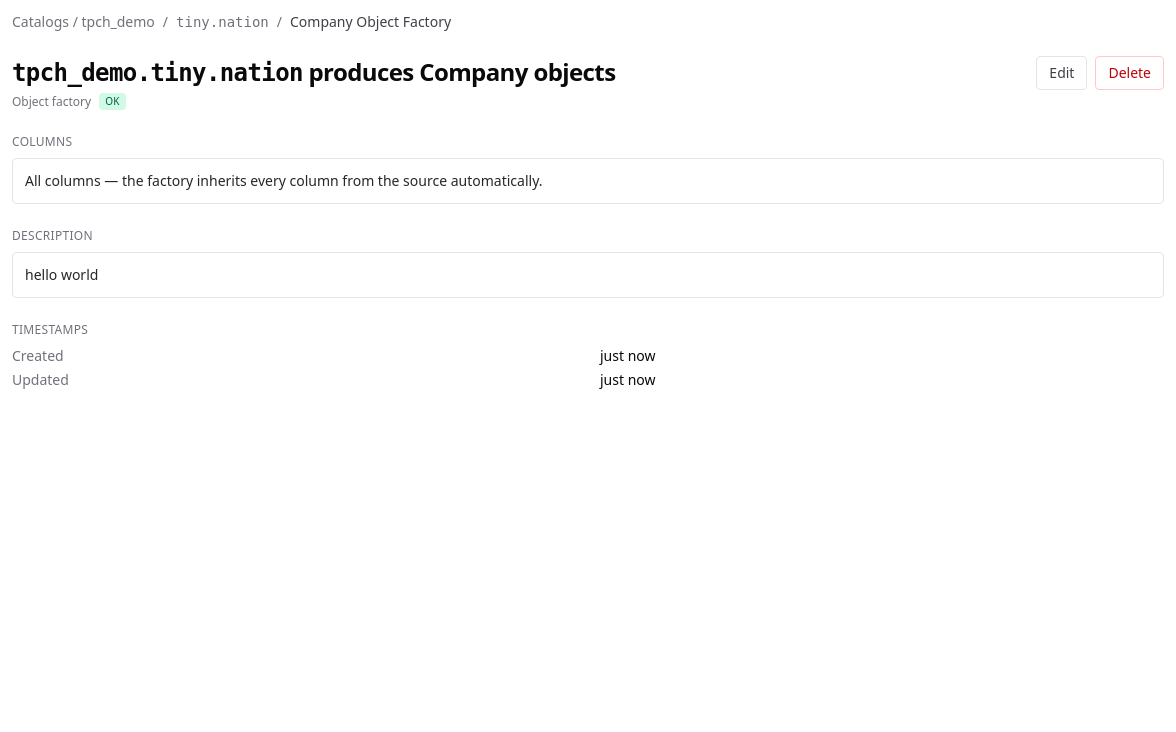
ObjectFactoryDetail › edits the description and PATCHes
Click the button with test id "edit-button": (1062,73) [1036,56,1088,90]
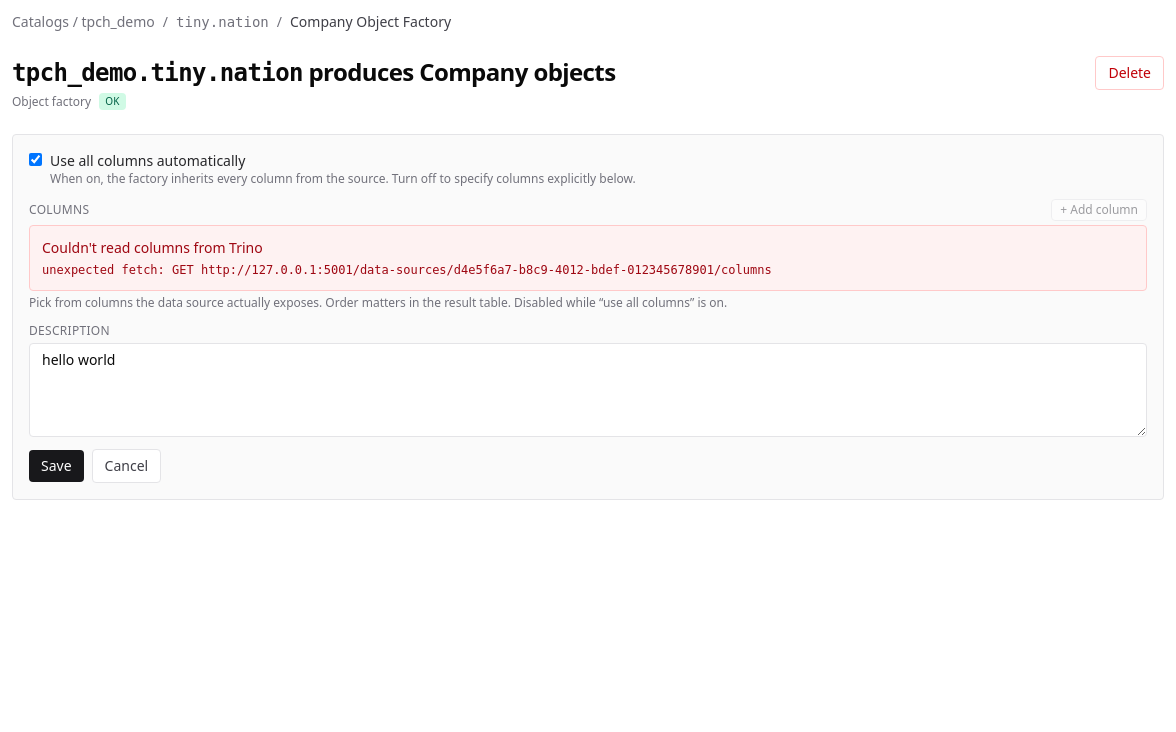
Replace the text in the text box with test id "edit-description-input" with "edited": (588,390) [29,343,1147,437]
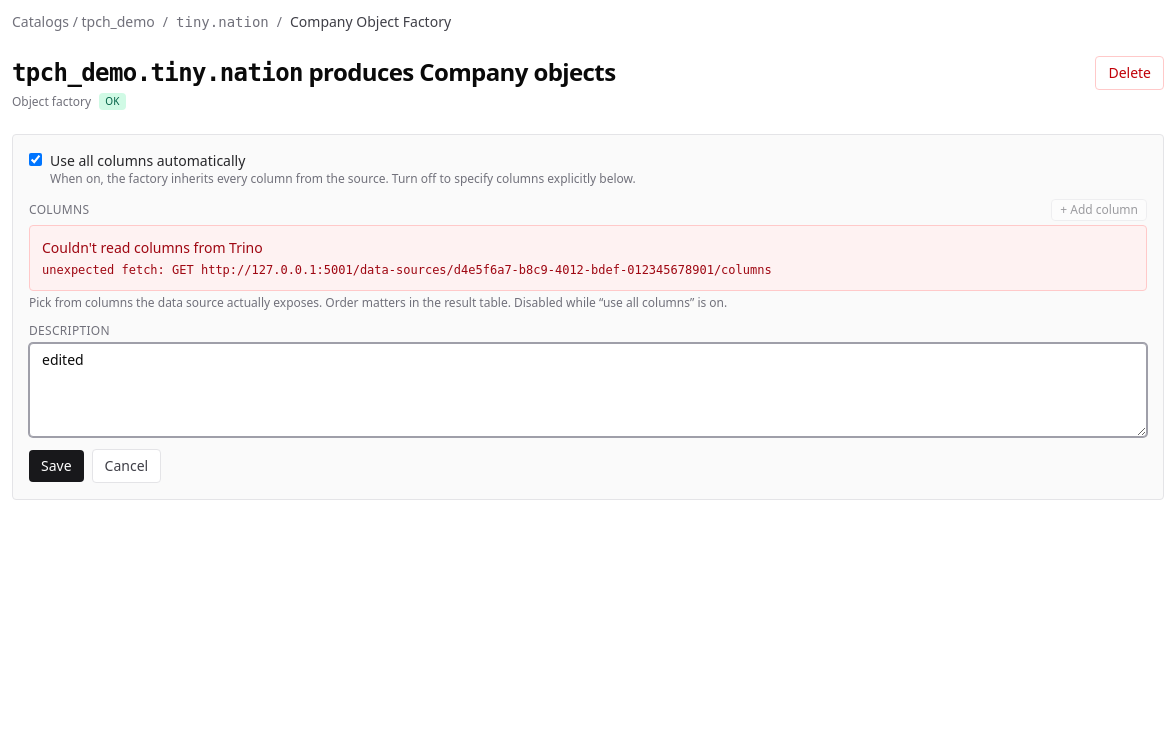
Click the button with test id "save-button": (56,466) [29,450,84,482]
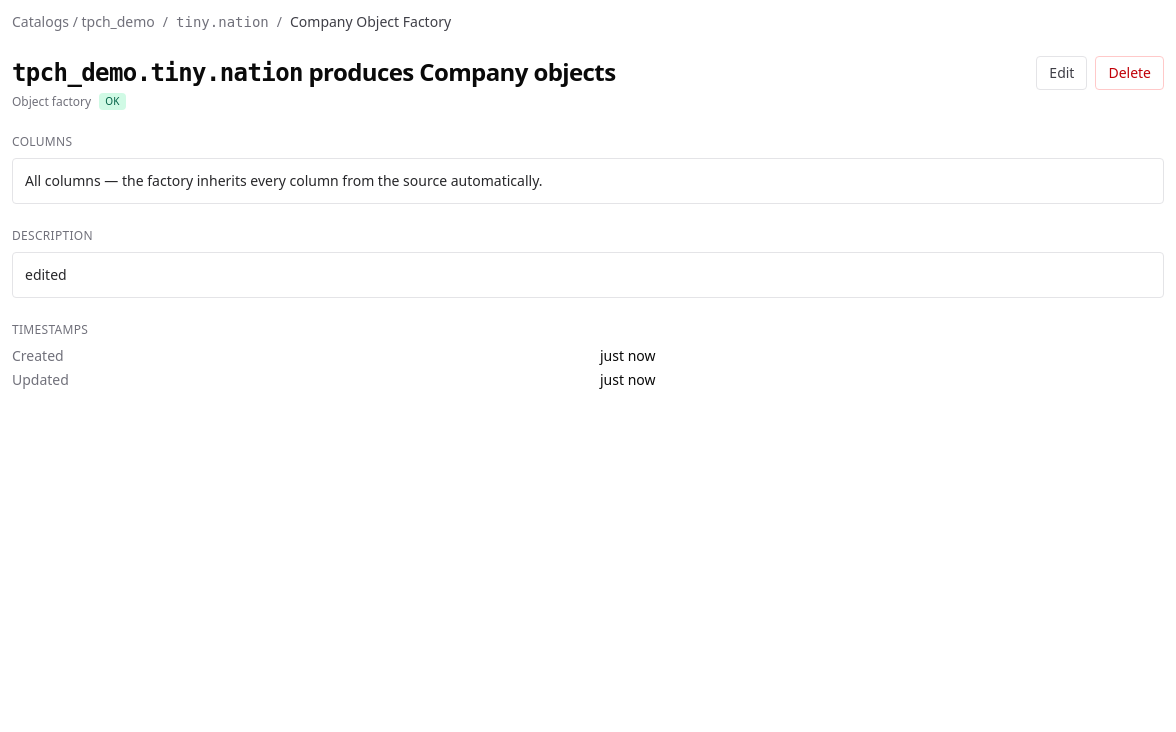
Expected: the form with test id "editor" is gone
Expected: the text with test id "description-text" reads "edited", [25,265,67,284]
